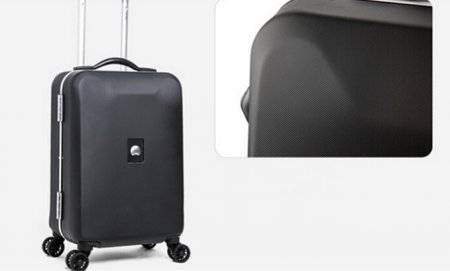suitcase: (41, 0, 192, 271)
